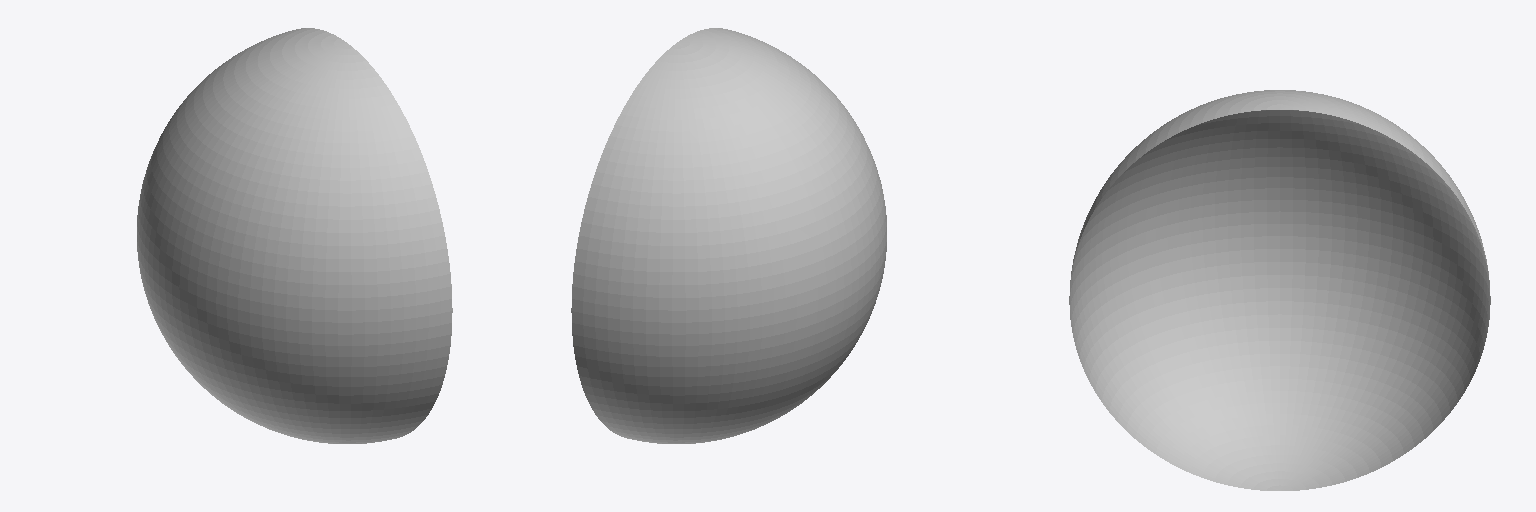
File: ExportedObj;Assignment_01_1.obj
3 views of the same model, side by side, from view 1: azimuth 30°, elevation 25°; view 2: azimuth 150°, elevation 25°; view 3: azimuth 270°, elevation 25° (orthographic).
Visible parts, largest first — view 1: GameObject (1); view 2: GameObject (1); view 3: GameObject (1).
Boxes of the visible parts, <box> form: GameObject (1): <box>137,28,452,443</box>; GameObject (1): <box>571,28,886,443</box>; GameObject (1): <box>1069,90,1490,490</box>.
Bounding box in the file's own units: 1 × 2 × 2.